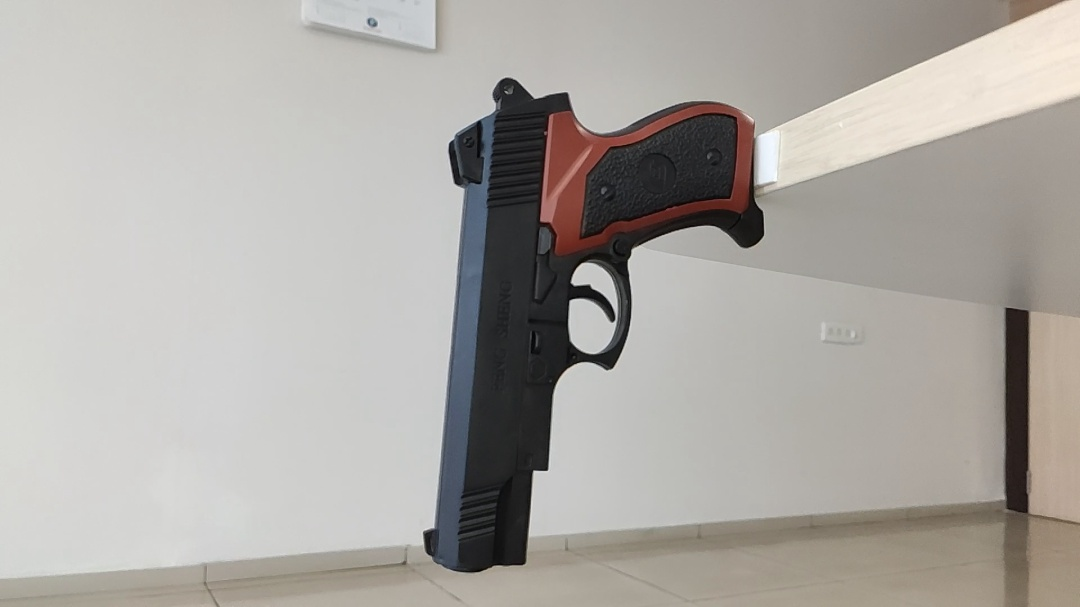gun: (417, 76, 769, 577)
